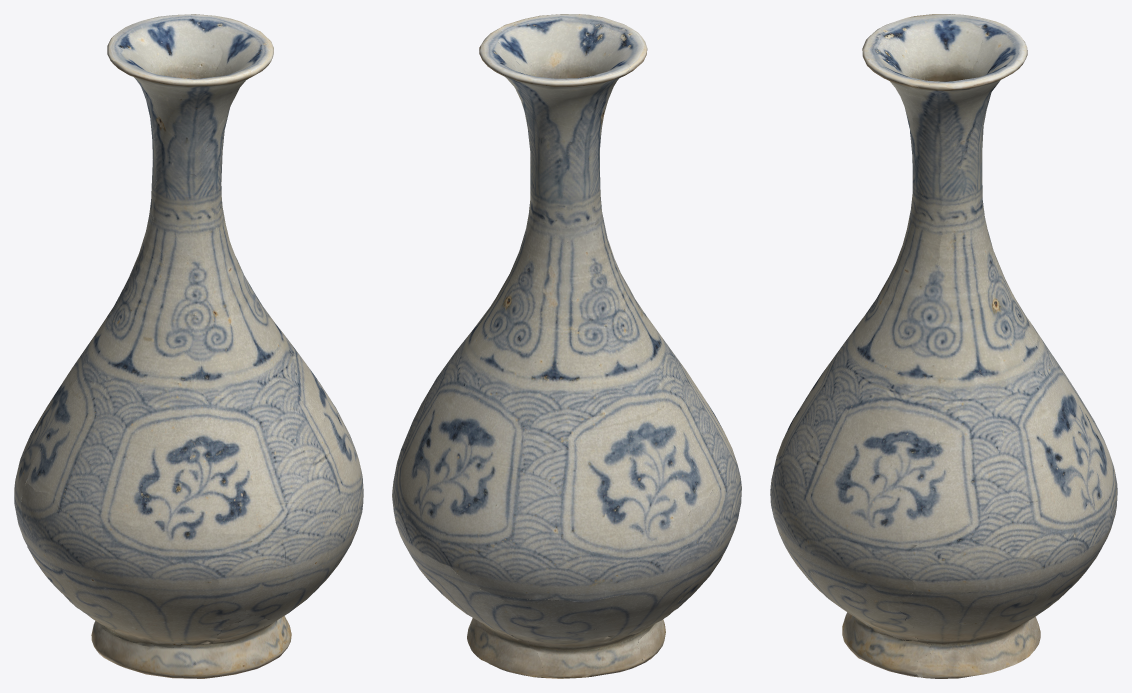
File: vase_glazed.glb
3 views of the same model, side by side, from view 1: azimuth 30°, elevation 25°; view 2: azimuth 150°, elevation 25°; view 3: azimuth 270°, elevation 25° (orthographic).
Visible parts, largest first — view 1: Object_2; view 2: Object_2; view 3: Object_2.
Boxes of the visible parts, x1=… form: Object_2: x1=14, y1=14, x2=363, y2=678; Object_2: x1=392, y1=14, x2=741, y2=678; Object_2: x1=770, y1=14, x2=1117, y2=678.
Size of the model in its own units: 0.1432 by 0.2673 by 0.1427.
1 material, 1 textured.
